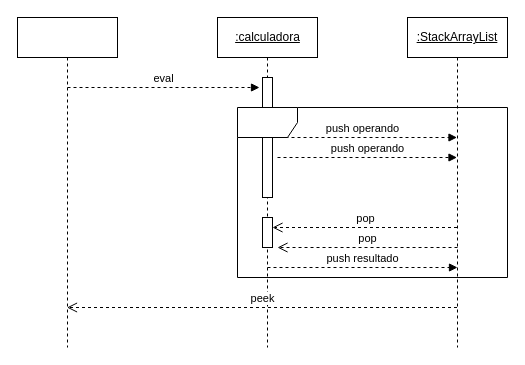
Image size: 525x365. Some labels were removed from this diagram. The shapes that lost their labels are listed below. From the top down, each one's box as (x1, y1, x2, y2) in pixels, then its label:
(16, 16, 118, 348): :main
(236, 106, 508, 278): ciclo
